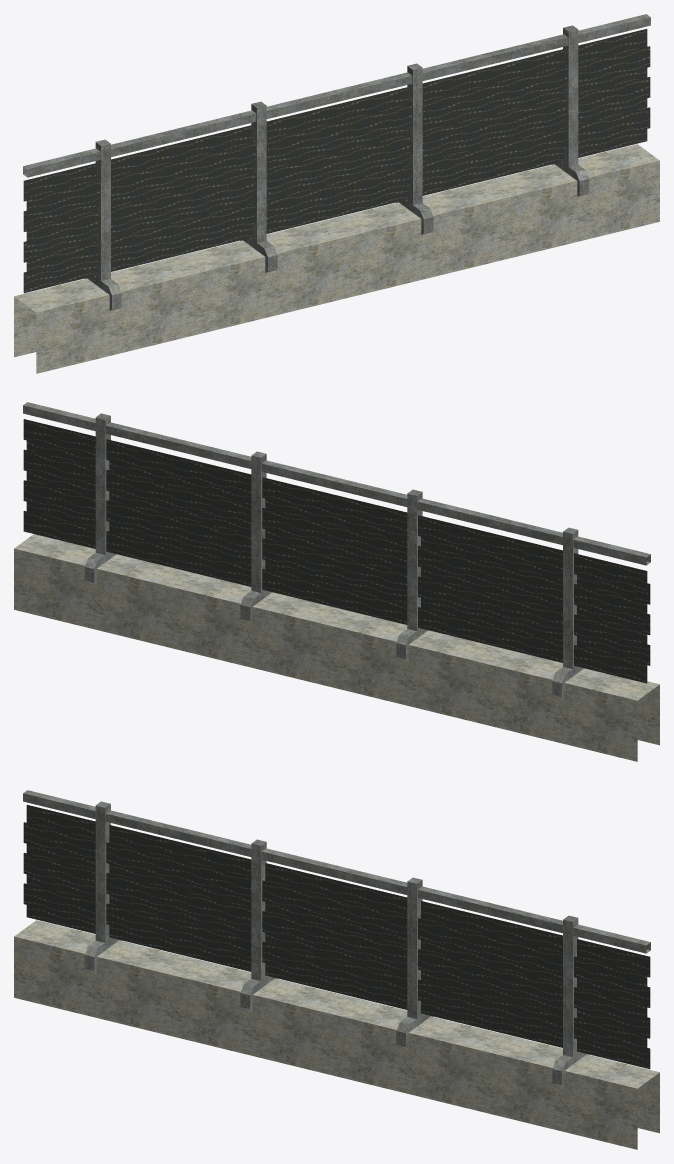
The model's file is thm_corl_imprv_wall_4x16_s03_l0.fbx.
3 renders of one model, top to bottom at view 1: azimuth 30°, elevation 25°; view 2: azimuth 150°, elevation 25°; view 3: azimuth 330°, elevation 25°, orthographic.
Visible parts, largest first — view 1: mesh_node; view 2: mesh_node; view 3: mesh_node.
Boxes of the visible parts, <box> form: mesh_node: <box>14,14,659,373</box>; mesh_node: <box>14,402,659,761</box>; mesh_node: <box>14,790,659,1149</box>.
Bounding box in the file's own units: 16 × 5 × 1.22.
